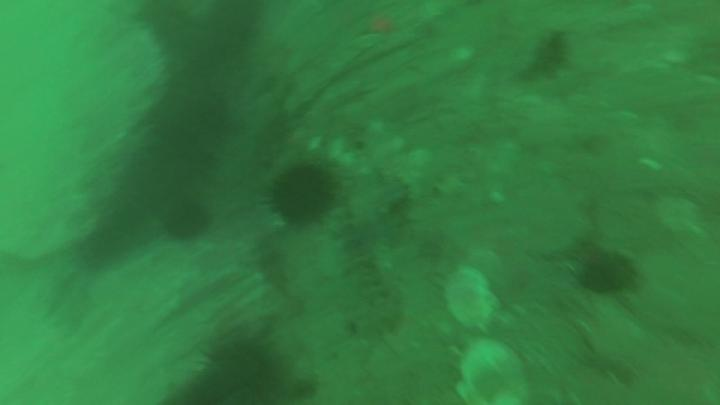echinus: (205, 344, 289, 405), (272, 165, 332, 226), (583, 252, 631, 293), (162, 204, 208, 239)
holothurian: (347, 225, 396, 341)
scallop: (459, 342, 532, 405), (443, 268, 499, 334)
